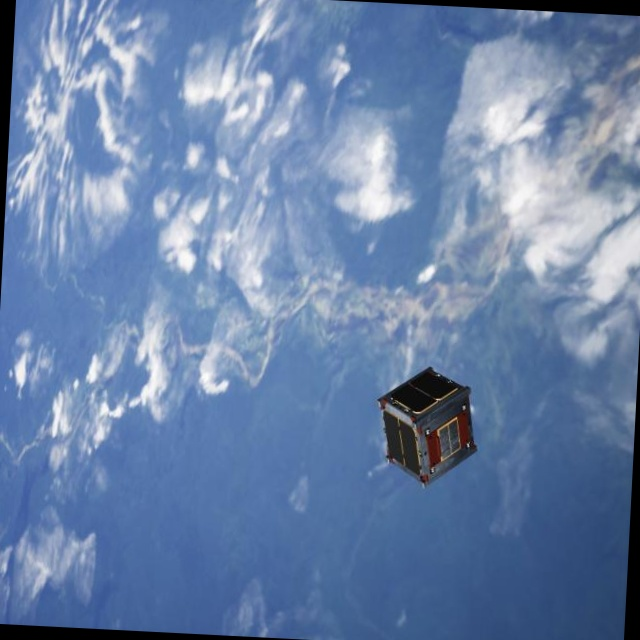satellite: (372, 362, 485, 488)
